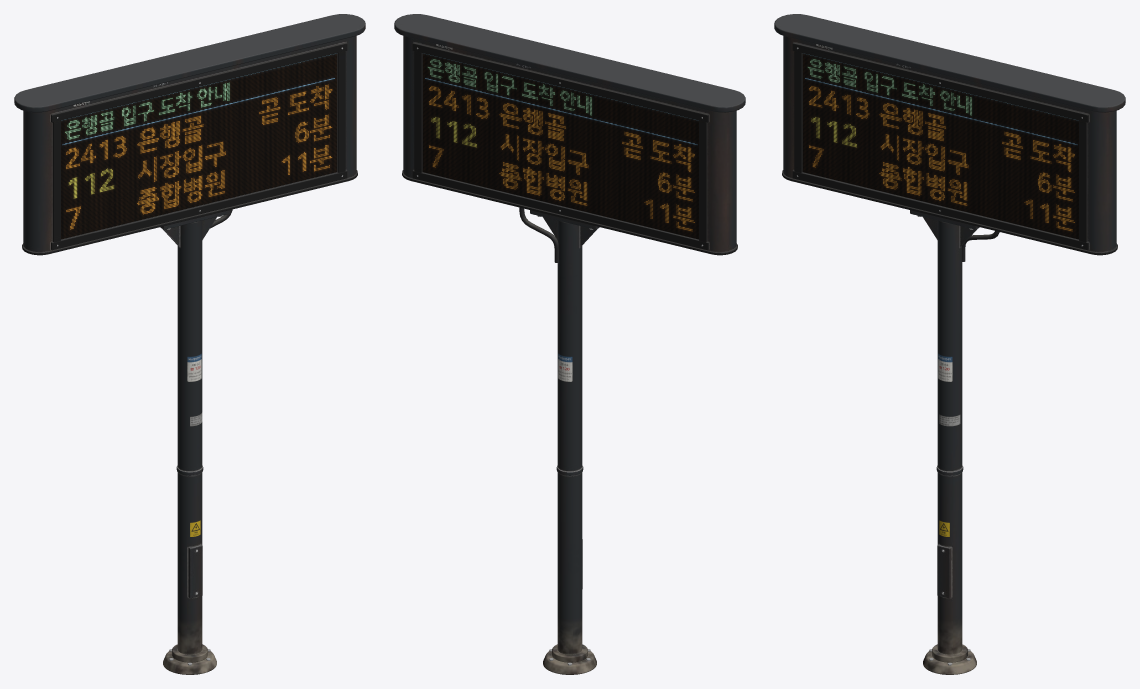
The model's file is BusStopBIS.fbx.
3 renders of one model, left to right at view 1: azimuth 30°, elevation 25°; view 2: azimuth 150°, elevation 25°; view 3: azimuth 330°, elevation 25°, orthographic.
Visible parts, largest first — view 1: BusStopBIS_Body, BusStopBIS_Display, BusStopBIS_Decals; view 2: BusStopBIS_Body, BusStopBIS_Display; view 3: BusStopBIS_Body, BusStopBIS_Display, BusStopBIS_Decals.
Boxes of the visible parts, bbox=[...] form: BusStopBIS_Body: bbox=[14, 14, 365, 674]; BusStopBIS_Display: bbox=[61, 53, 337, 239]; BusStopBIS_Decals: bbox=[73, 82, 202, 536]; BusStopBIS_Body: bbox=[394, 14, 745, 674]; BusStopBIS_Display: bbox=[422, 53, 698, 239]; BusStopBIS_Body: bbox=[774, 14, 1125, 674]; BusStopBIS_Display: bbox=[802, 53, 1078, 239]; BusStopBIS_Decals: bbox=[816, 44, 960, 536].
Bounding box in the file's own units: 1.87 × 3.12 × 0.2541.
